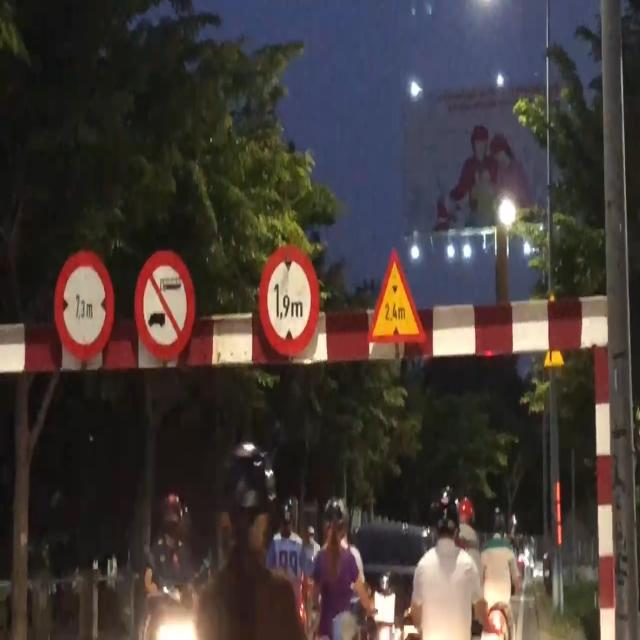Bien bao cam xe oto khach va xe oto tai: (128, 232, 202, 370)
Bien bao chieu cao tinh khong thuc te: (362, 244, 430, 350)
Bien bao han che chieu cao: (255, 236, 323, 365)
